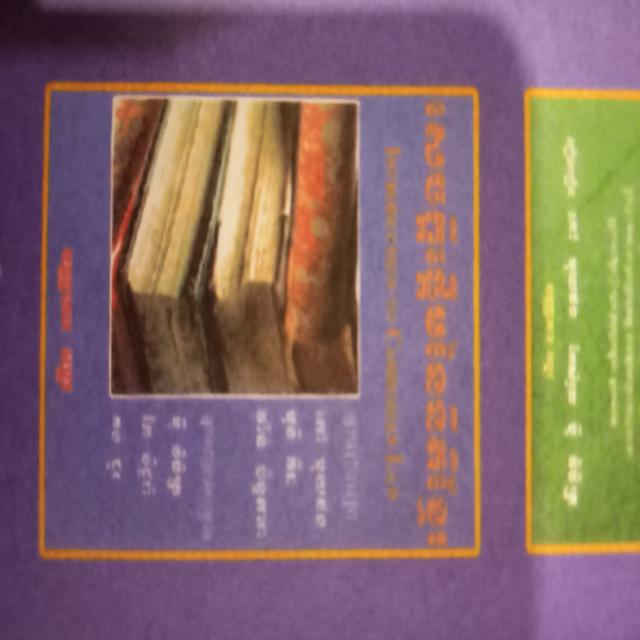Yolov11kh: (404, 93, 477, 550)
